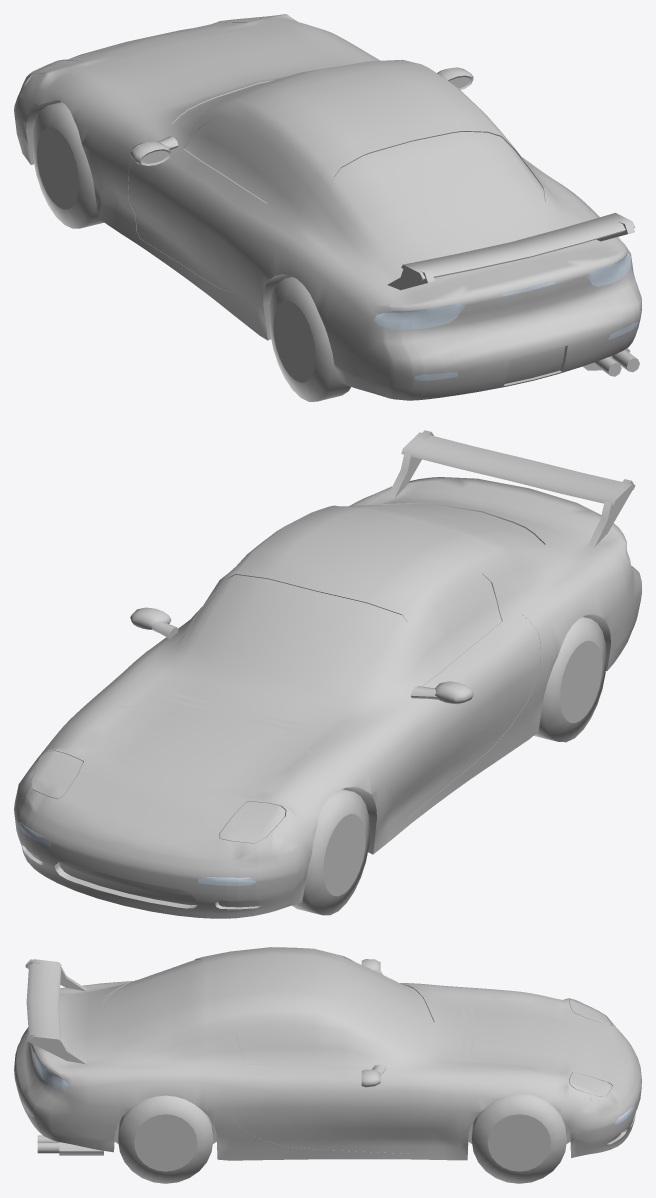
3 renders of one model, top to bottom at view 1: azimuth 30°, elevation 25°; view 2: azimuth 150°, elevation 25°; view 3: azimuth 270°, elevation 25°, orthographic. The views are drawn at different scales.
Visible parts, largest first — view 1: Body, Wheel_RL, Wheel_FL, LensCover_Tail_L, LensCover_Tail_R; view 2: Body, Wheel_FL, Wheel_RL; view 3: Body, Wheel_FR, Wheel_RR, LensCover_Tail_R.
Boxes of the visible parts, x1=… form: Body: x1=14, y1=14, x2=641, y2=400; Wheel_RL: x1=269, y1=276, x2=350, y2=401; Wheel_FL: x1=32, y1=102, x2=103, y2=228; LensCover_Tail_L: x1=373, y1=303, x2=465, y2=329; LensCover_Tail_R: x1=587, y1=253, x2=631, y2=286; Body: x1=14, y1=430, x2=641, y2=918; Wheel_FL: x1=292, y1=789, x2=369, y2=915; Wheel_RL: x1=534, y1=617, x2=606, y2=742; Body: x1=14, y1=947, x2=641, y2=1160; Wheel_FR: x1=471, y1=1093, x2=566, y2=1183; Wheel_RR: x1=118, y1=1095, x2=213, y2=1183; LensCover_Tail_R: x1=33, y1=1052, x2=69, y2=1090.
Bounding box in the file's own units: 2.03 × 1.24 × 4.37.
